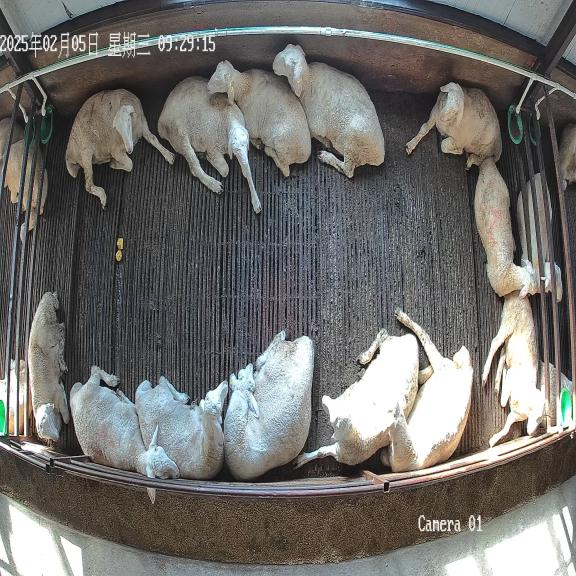lying: (297, 329, 419, 466), (272, 44, 385, 178), (380, 311, 473, 472), (158, 77, 261, 213), (224, 331, 314, 480), (65, 89, 175, 207), (70, 366, 180, 478), (208, 60, 311, 177), (135, 376, 228, 479), (482, 291, 544, 445), (474, 158, 540, 297), (406, 82, 502, 168), (28, 292, 70, 443)
